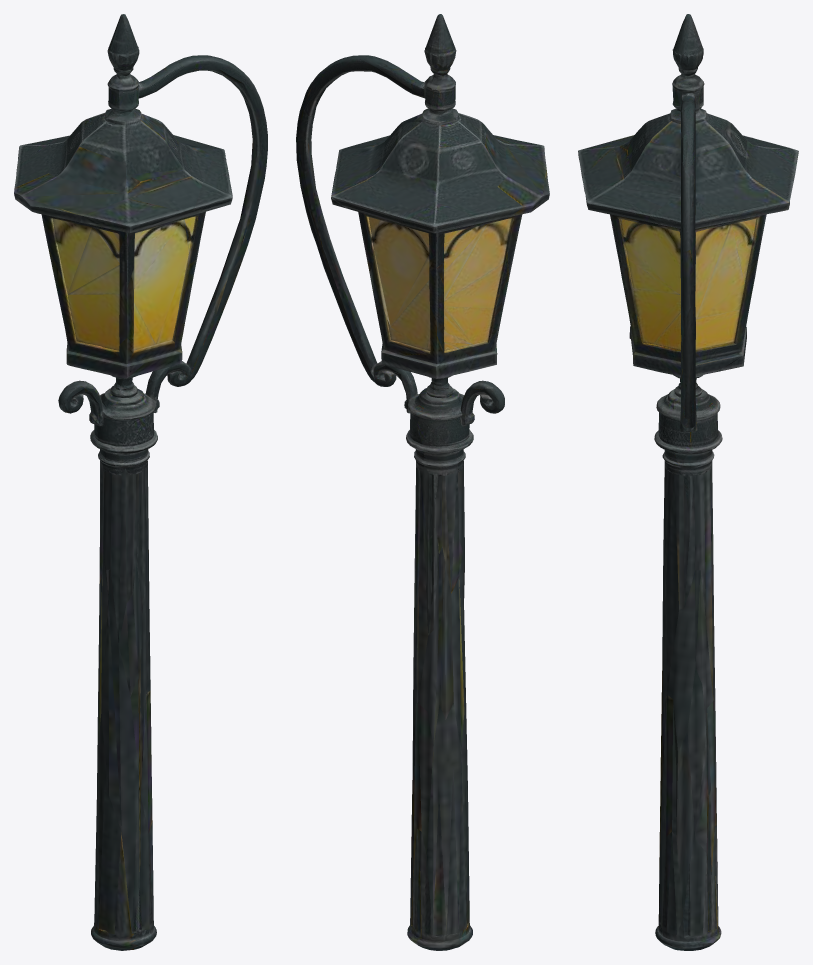
The model's file is lamp.glb.
3 renders of one model, left to right at view 1: azimuth 30°, elevation 25°; view 2: azimuth 150°, elevation 25°; view 3: azimuth 270°, elevation 25°, orthographic.
Visible parts, largest first — view 1: output_unwrapped; view 2: output_unwrapped; view 3: output_unwrapped.
Boxes of the visible parts, bbox=[...] form: output_unwrapped: bbox=[14, 14, 267, 950]; output_unwrapped: bbox=[296, 14, 549, 950]; output_unwrapped: bbox=[578, 14, 798, 950].
Size of the model in its own units: 0.5255 by 1.9 by 0.4102.
1 material, 1 textured.
